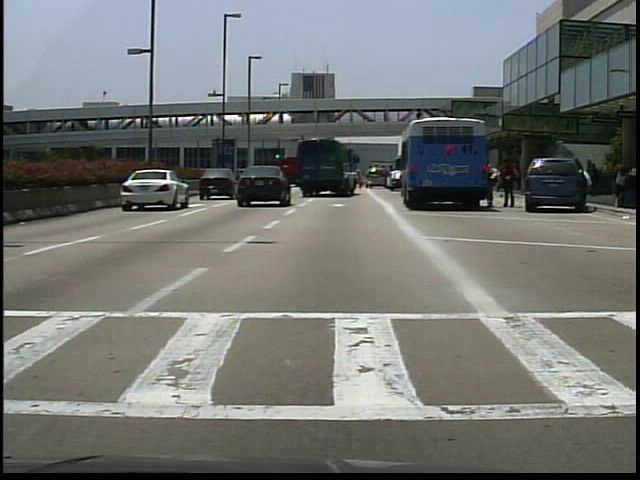person: (485, 156, 503, 209), (500, 159, 517, 208), (579, 165, 596, 204)
